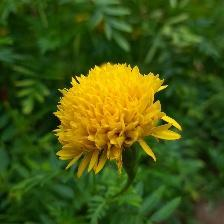marigold: (52, 60, 188, 181)
